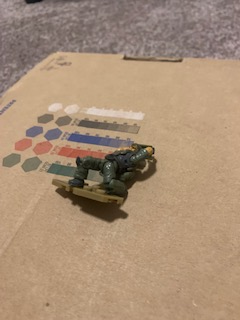soldier: (65, 132, 160, 200)
